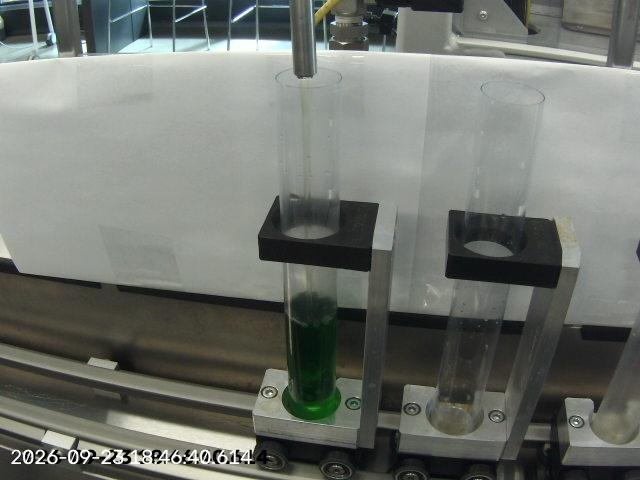vial: (416, 71, 549, 440), (249, 69, 385, 423)
